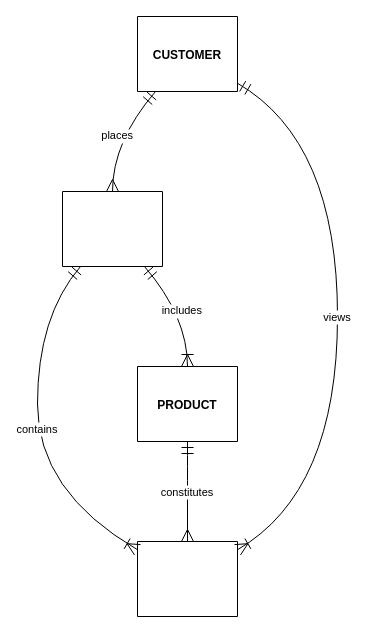
Image size: 370x633. Some labels were removed from this diagram. Each missing label, with the centre of its shape:
"LINE-ITEM" belongs at pixel 187 578.
"ORDER" belongs at pixel 112 228.
